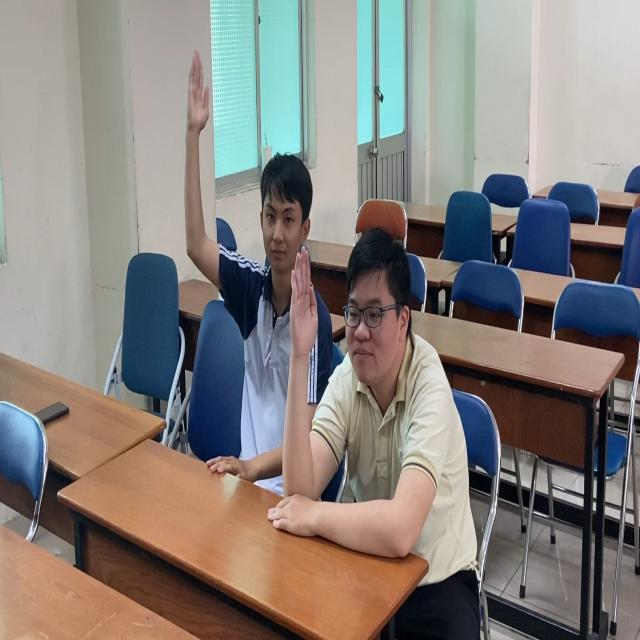raise_hand: (280, 205, 478, 556), (181, 39, 319, 499)
